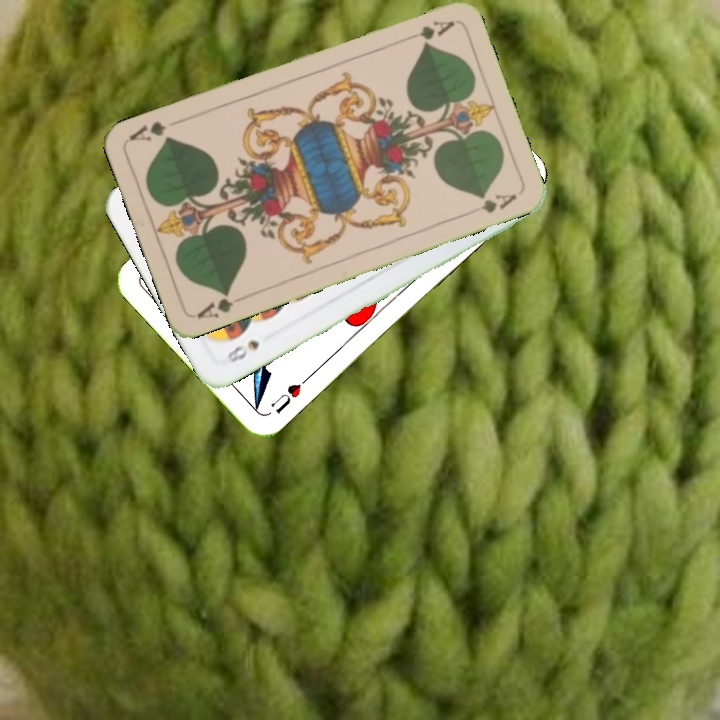GA: (192, 286, 249, 322), (399, 16, 457, 44)
HU: (266, 372, 312, 417)
S8: (223, 335, 262, 366)
